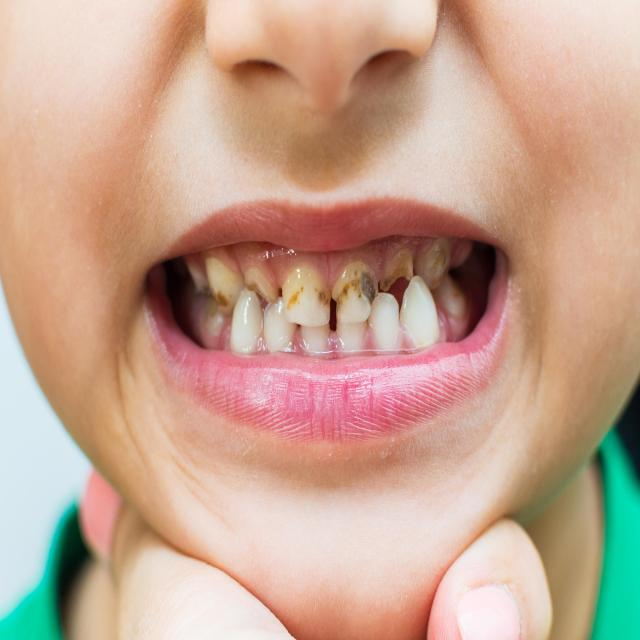Caries: (358, 295, 361, 298)
Cavity: (360, 264, 378, 304)
Tooth: (281, 268, 330, 327), (332, 262, 378, 324), (400, 276, 440, 347), (205, 258, 245, 315), (231, 285, 263, 352), (263, 296, 297, 353), (415, 237, 451, 289), (368, 293, 399, 348), (336, 303, 367, 350), (380, 248, 413, 291), (435, 277, 467, 316), (244, 268, 278, 303), (301, 323, 330, 352)
